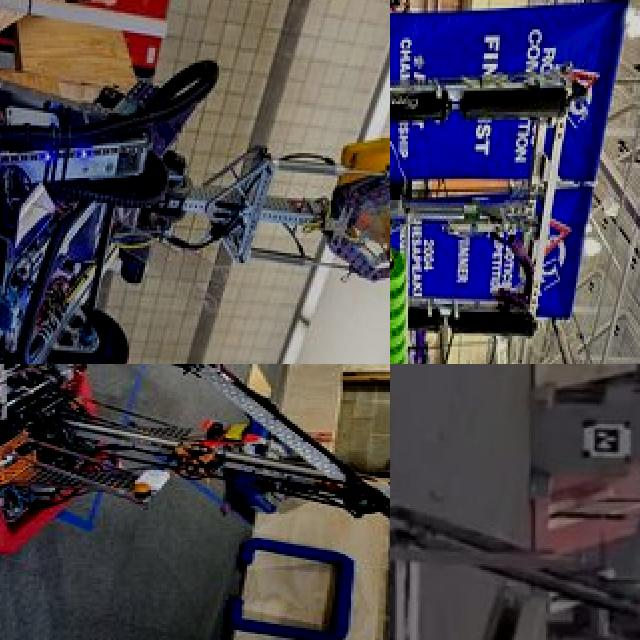FRC-Robots: (0, 0, 390, 364), (0, 364, 390, 612), (390, 0, 598, 364), (390, 410, 640, 640)
